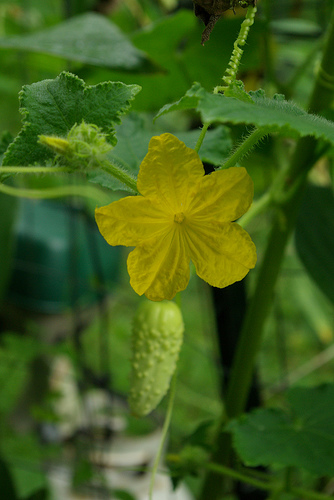cucumber: (126, 301, 186, 417)
